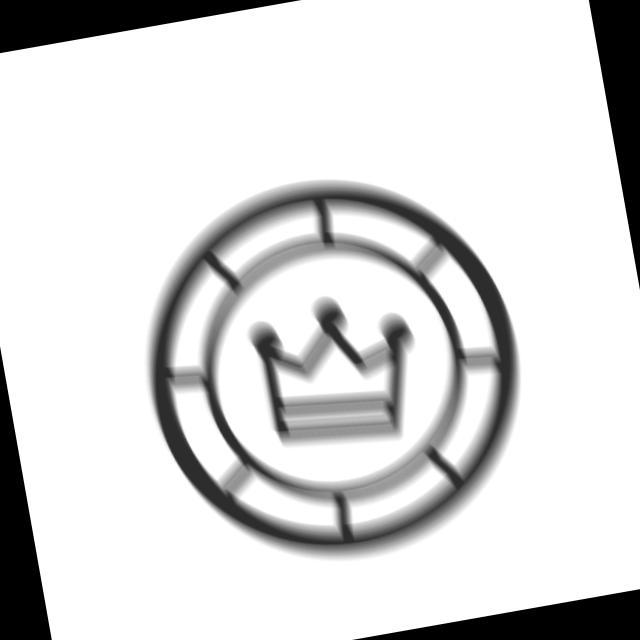coin: (112, 142, 558, 595)
